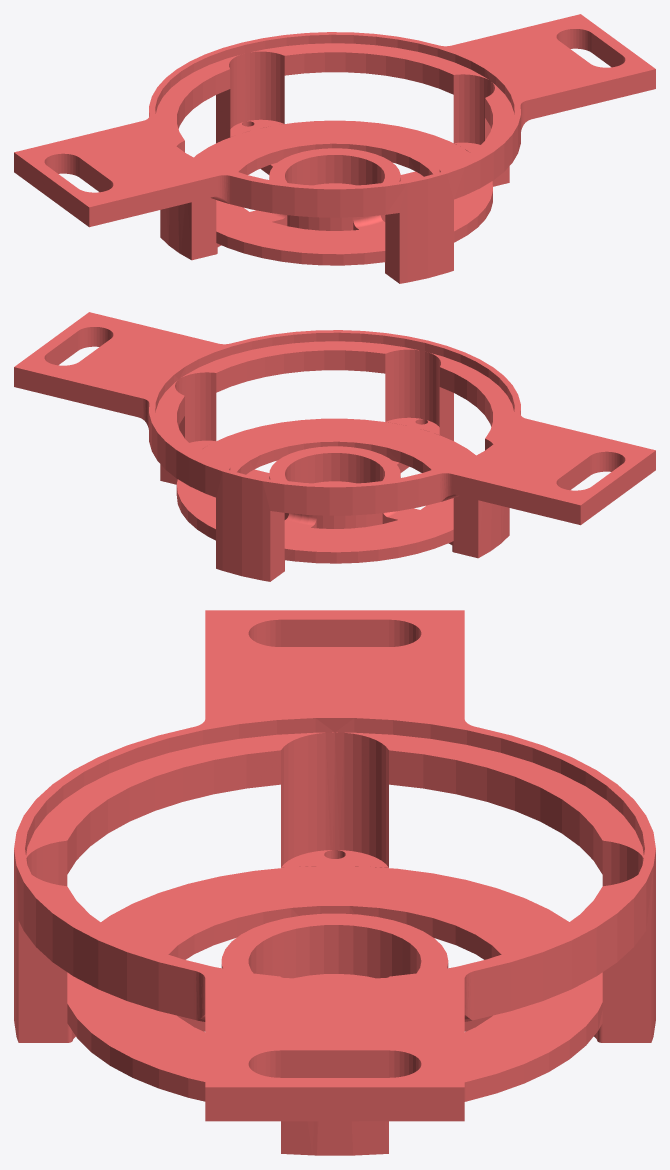
File: Tampa 2.gltf
3 views of the same model, one above another, from view 1: azimuth 30°, elevation 25°; view 2: azimuth 150°, elevation 25°; view 3: azimuth 270°, elevation 25° (orthographic). The views are drawn at different scales.
Parts seen in each view (by area): view 1: amfobject; view 2: amfobject; view 3: amfobject.
Boxes of the visible parts, bbox=[...] form: amfobject: bbox=[14, 14, 655, 283]; amfobject: bbox=[14, 312, 655, 581]; amfobject: bbox=[14, 610, 655, 1155].
Size of the model in its own units: 209 by 35 by 119.
